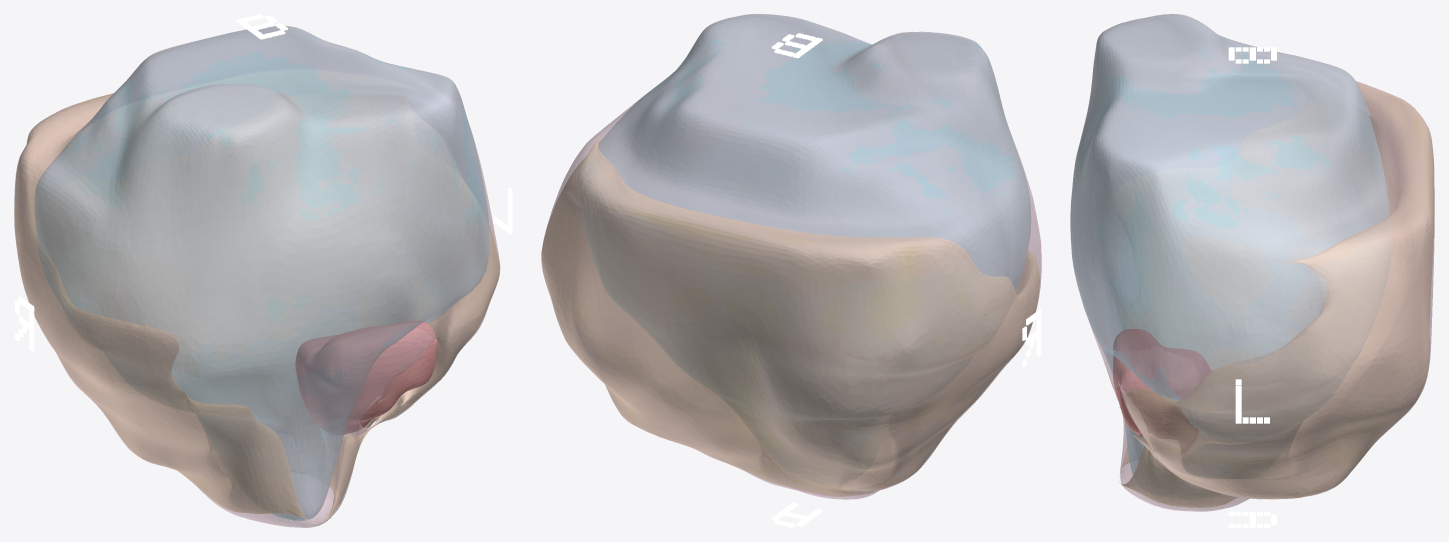
3 views of the same model, side by side, from view 1: azimuth 30°, elevation 25°; view 2: azimuth 150°, elevation 25°; view 3: azimuth 270°, elevation 25° (orthographic). The views are drawn at different scales.
Visible parts, largest first — view 1: prostate_gland, transition_zone, peripheral_zone, lesion_01, pv_ar_marker_B, pv_ar_marker_R; view 2: prostate_gland, peripheral_zone, transition_zone, pv_ar_marker_B, pv_ar_marker_R; view 3: prostate_gland, transition_zone, peripheral_zone, lesion_01, pv_ar_marker_B, pv_ar_marker_A, pv_ar_marker_L.
Boxes of the visible parts, bbox=[...] form: prostate_gland: bbox=[14, 25, 500, 527]; transition_zone: bbox=[35, 26, 488, 520]; peripheral_zone: bbox=[14, 93, 499, 523]; lesion_01: bbox=[295, 321, 437, 434]; pv_ar_marker_B: bbox=[236, 14, 287, 39]; pv_ar_marker_R: bbox=[15, 296, 34, 351]; prostate_gland: bbox=[541, 14, 1041, 499]; peripheral_zone: bbox=[541, 137, 1039, 496]; transition_zone: bbox=[577, 14, 1030, 418]; pv_ar_marker_B: bbox=[771, 33, 822, 58]; pv_ar_marker_R: bbox=[1022, 309, 1041, 366]; prostate_gland: bbox=[1070, 14, 1434, 511]; transition_zone: bbox=[1070, 14, 1391, 474]; peripheral_zone: bbox=[1118, 81, 1434, 507]; lesion_01: bbox=[1113, 329, 1211, 453]; pv_ar_marker_B: bbox=[1228, 47, 1276, 63]; pv_ar_marker_A: bbox=[1228, 511, 1276, 527]; pv_ar_marker_L: bbox=[1235, 379, 1269, 423].
Bounding box in the file's own units: 0.0661 × 0.0629 × 0.0445.
